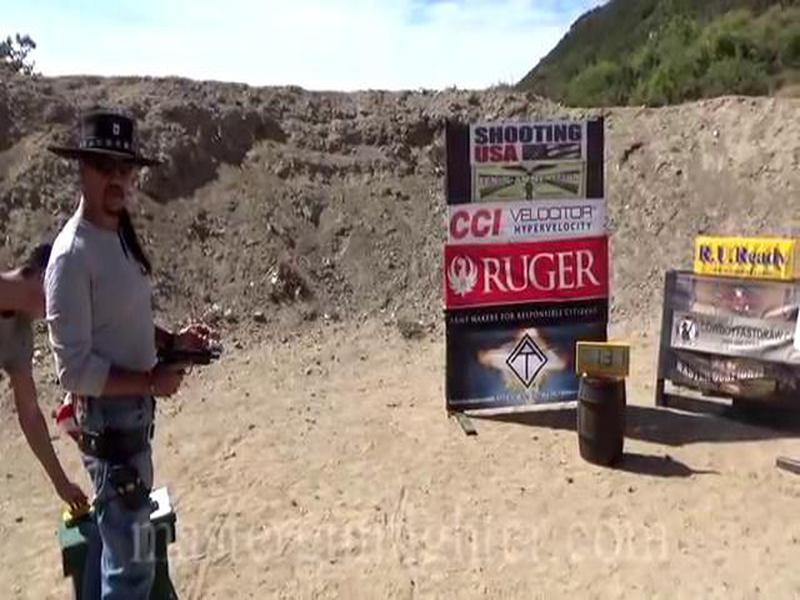Pistola: (151, 339, 233, 405)
